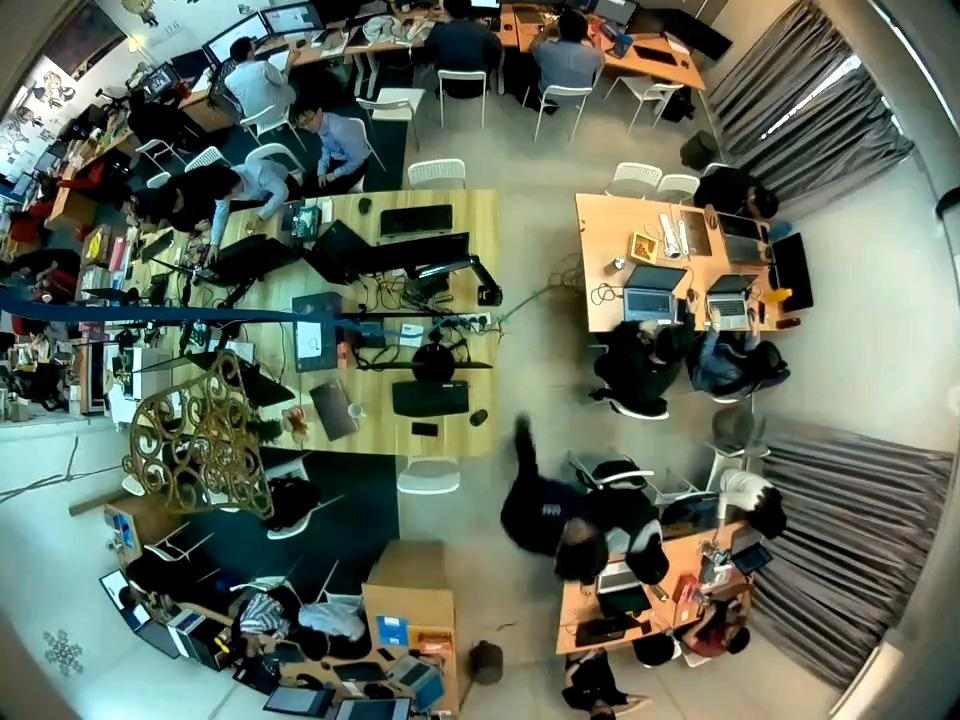name-tag: (542, 503, 563, 516)
